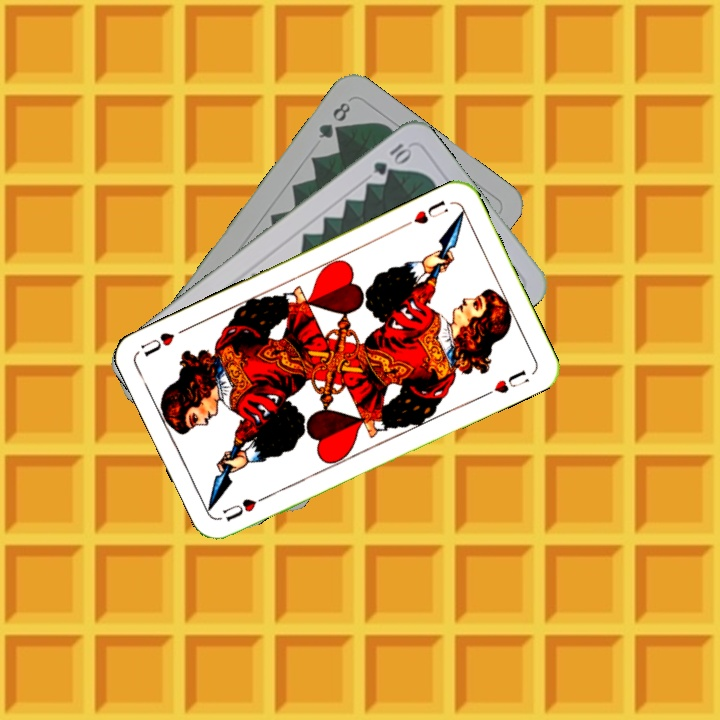G10: (369, 139, 414, 178)
G8: (314, 98, 354, 141)
HU: (218, 490, 272, 524), (399, 196, 451, 230)
